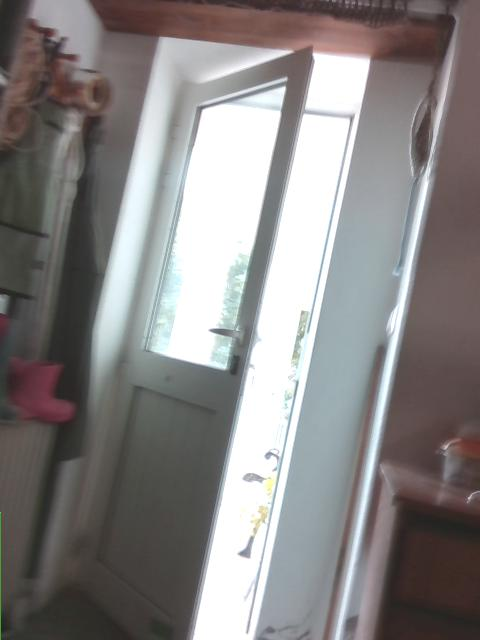semi_door: (60, 42, 373, 639)
